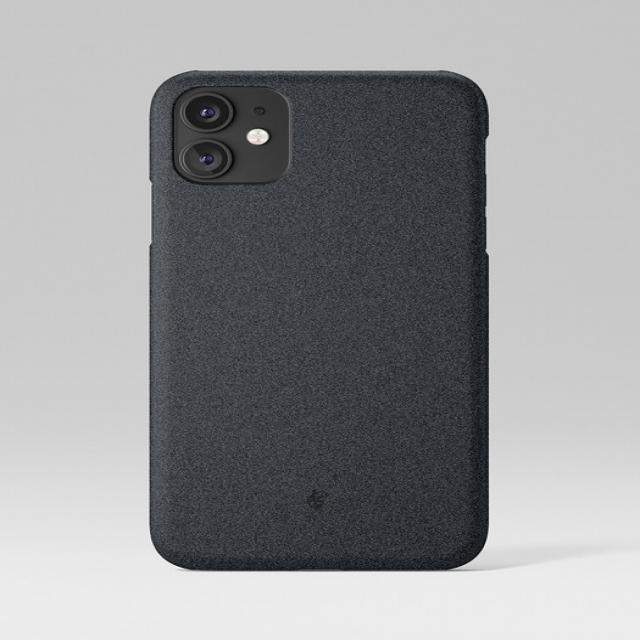phone: (146, 69, 492, 569)
